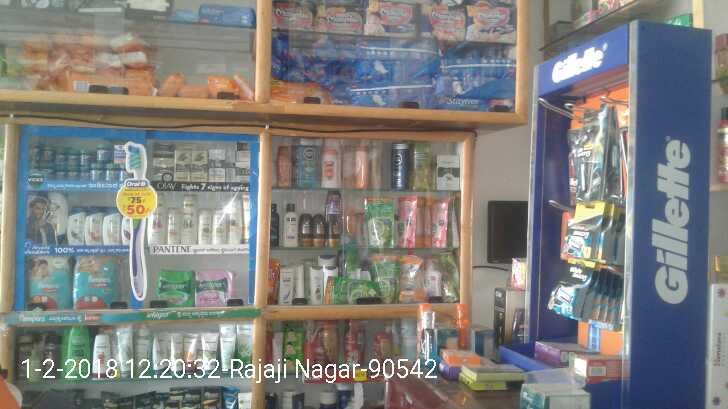beauty: (567, 123, 610, 194), (562, 212, 605, 255), (550, 270, 581, 314), (147, 199, 165, 246), (83, 205, 103, 246), (180, 193, 194, 247), (172, 150, 193, 183), (66, 207, 84, 245), (152, 152, 174, 182), (103, 205, 118, 246), (196, 210, 213, 246), (211, 150, 226, 184), (166, 206, 179, 245), (194, 150, 210, 181), (229, 208, 242, 244), (215, 205, 226, 244), (236, 158, 253, 183)
pharmacy: (27, 255, 73, 307), (74, 256, 117, 306), (150, 271, 192, 311), (194, 271, 233, 309), (54, 161, 71, 186), (38, 142, 56, 162), (94, 143, 111, 163), (78, 166, 95, 185), (90, 162, 103, 183), (67, 165, 80, 186), (64, 148, 78, 167), (76, 151, 91, 168), (104, 164, 118, 181), (53, 146, 65, 164)
